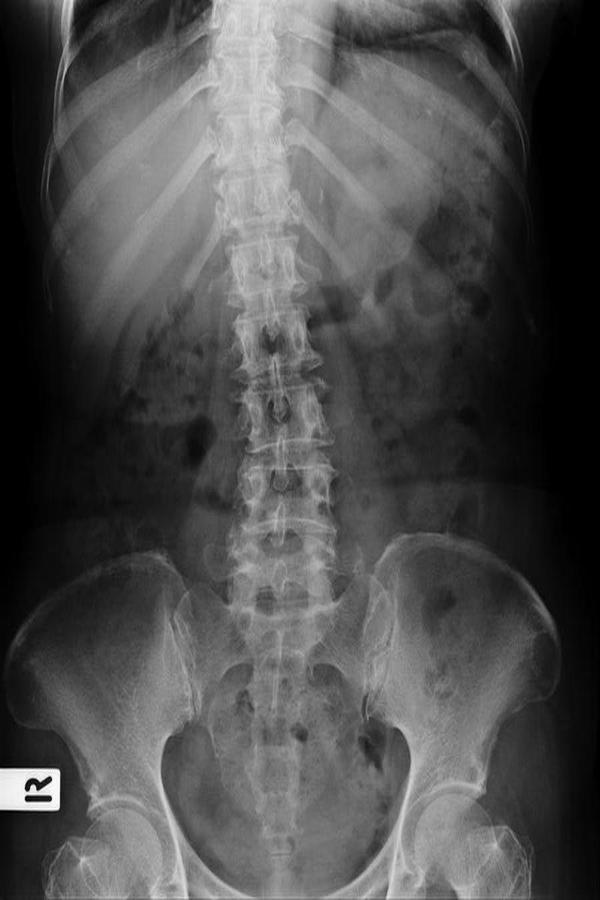lumbar scoliosis: (198, 7, 338, 628)
